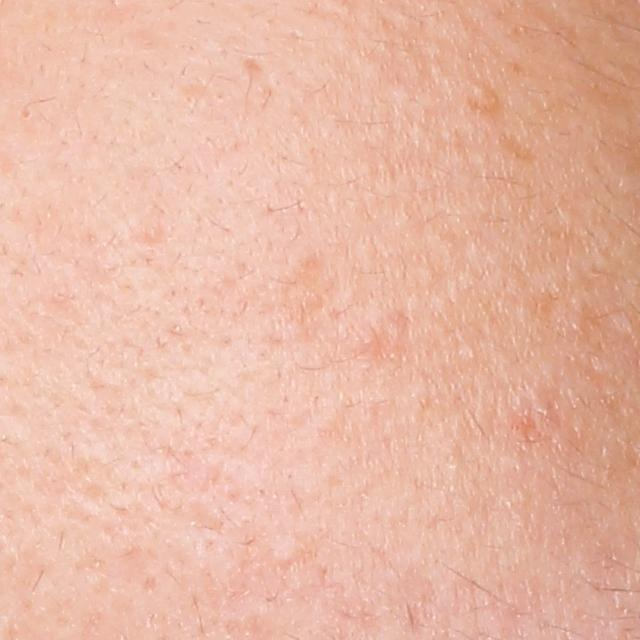atrophic_scar: (239, 56, 269, 77)
comedo: (14, 101, 32, 122)
